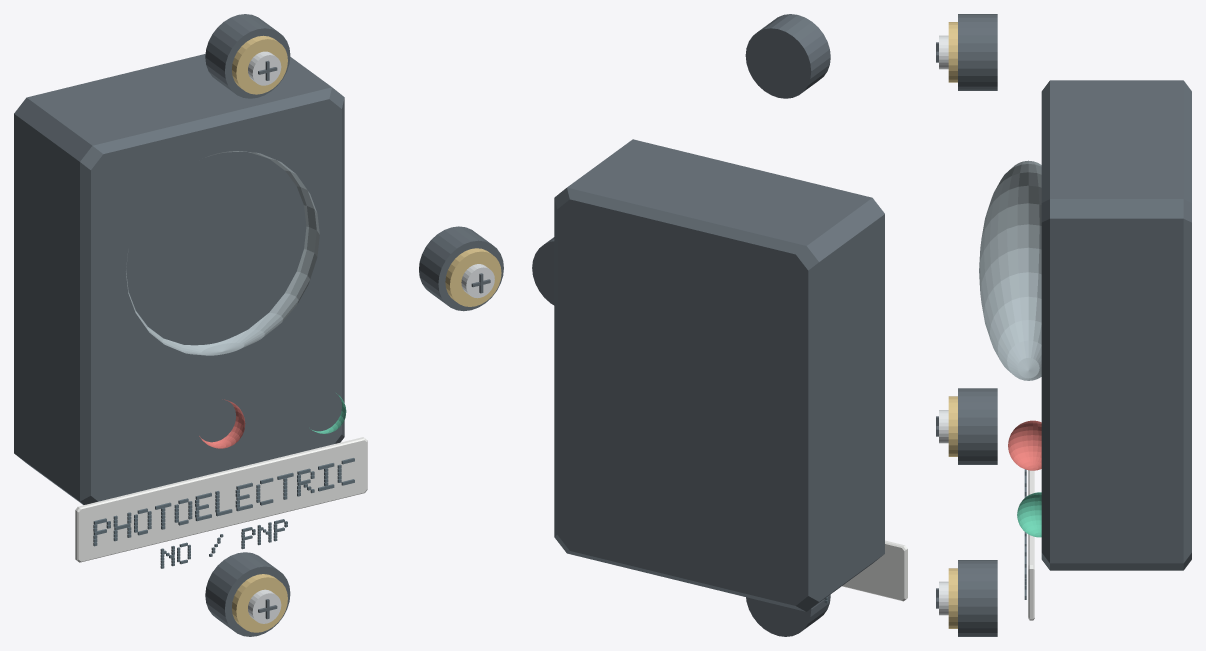
Rendered from photoelectricSensor.glb.
3 views of the same model, side by side, from view 1: azimuth 30°, elevation 25°; view 2: azimuth 150°, elevation 25°; view 3: azimuth 270°, elevation 25° (orthographic).
Visible parts, largest first — view 1: photoelectricSensor-detailed; view 2: photoelectricSensor-detailed; view 3: photoelectricSensor-detailed.
Part boxes in pixels (x1=…): photoelectricSensor-detailed: x1=14, y1=14, x2=503, y2=636; photoelectricSensor-detailed: x1=532, y1=14, x2=907, y2=636; photoelectricSensor-detailed: x1=936, y1=14, x2=1191, y2=636.
Bounding box in the file's own units: 1.87 × 2.77 × 1.04.
